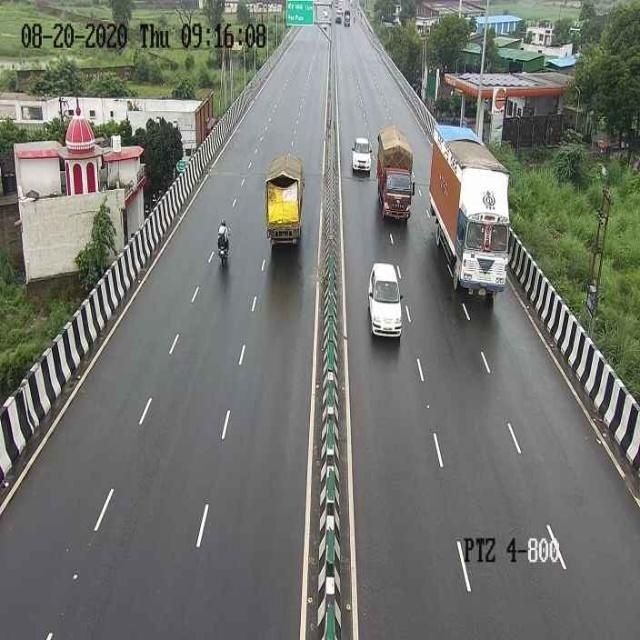car: (364, 256, 407, 343), (349, 130, 373, 177)
